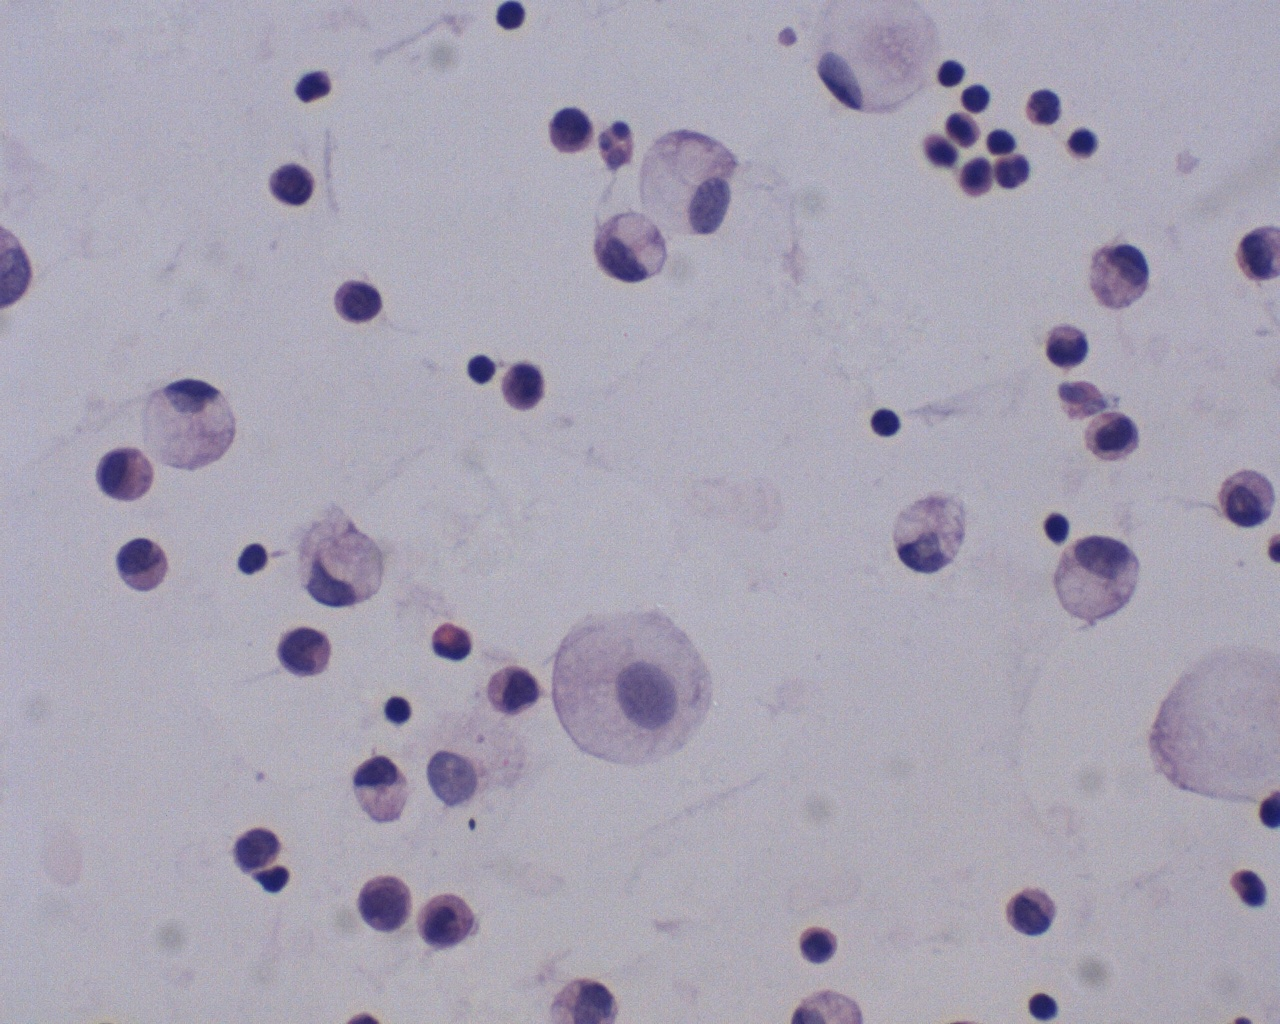ab: (997, 877, 1067, 950), (1214, 465, 1280, 532), (274, 621, 338, 686), (323, 276, 394, 331), (356, 872, 417, 934)
histo: (546, 602, 720, 776), (807, 1, 941, 114), (293, 494, 394, 611), (1046, 528, 1147, 639), (141, 376, 243, 472), (594, 207, 668, 289), (1083, 233, 1156, 315), (348, 750, 419, 831), (1021, 82, 1063, 127)
lymph: (861, 399, 918, 447), (460, 349, 506, 389), (1060, 123, 1102, 165), (377, 688, 414, 729), (489, 1, 532, 37), (960, 82, 998, 117), (985, 125, 1022, 160), (935, 54, 968, 91)
meso: (94, 444, 161, 505), (114, 530, 168, 599)
neutro: (290, 61, 338, 109)
